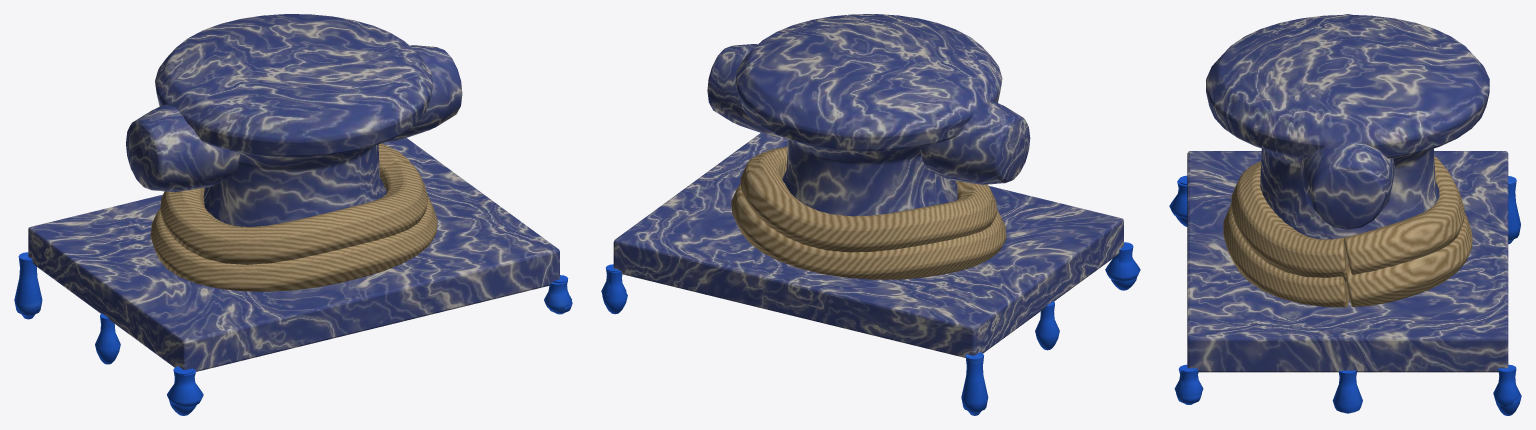
Rendered from cleat.glb.
The picture shows the model from 3 angles, left to right: view 1: azimuth 30°, elevation 25°; view 2: azimuth 150°, elevation 25°; view 3: azimuth 270°, elevation 25°; orthographic projection. The views are drawn at different scales.
Parts seen in each view (by area): view 1: cleat; view 2: cleat; view 3: cleat.
Part boxes in pixels (x1=…): cleat: x1=14, y1=14, x2=572, y2=415; cleat: x1=601, y1=14, x2=1140, y2=415; cleat: x1=1169, y1=14, x2=1521, y2=415.
Size of the model in its own units: 0.6444 by 0.42 by 0.4775.
Materials: 1 (1 with a texture image).
